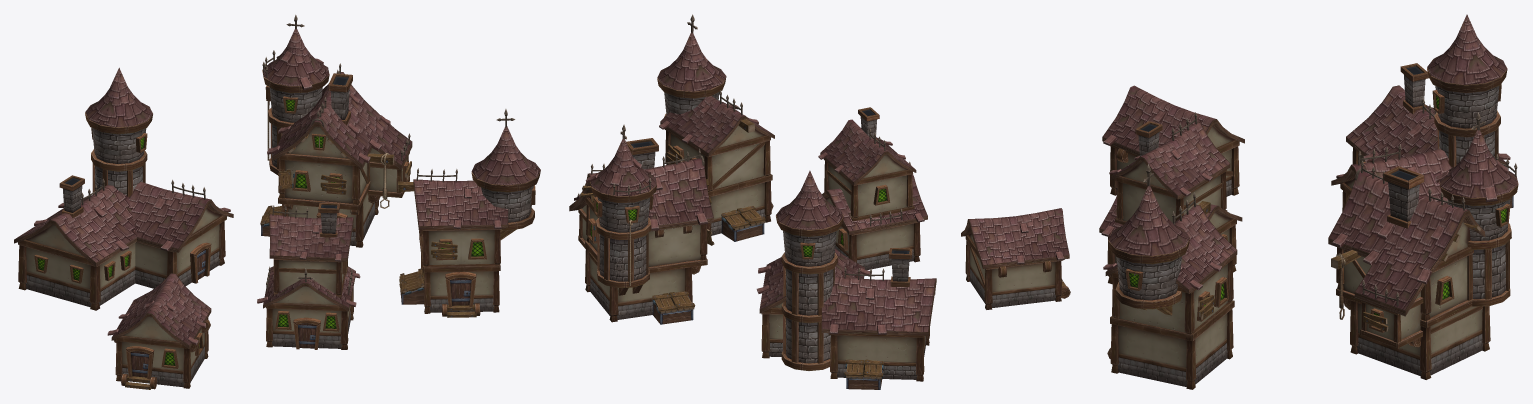
Rendered from medieval-houses.glb.
3 renders of one model, left to right at view 1: azimuth 30°, elevation 25°; view 2: azimuth 150°, elevation 25°; view 3: azimuth 270°, elevation 25°, orthographic. The views are drawn at different scales.
Visible parts, largest first — view 1: haunted_house_027; view 2: haunted_house_027; view 3: haunted_house_027.
Boxes of the visible parts, x1=… form: haunted_house_027: x1=14, y1=14, x2=540, y2=389; haunted_house_027: x1=569, y1=14, x2=1070, y2=389; haunted_house_027: x1=1099, y1=14, x2=1518, y2=389.
Size of the model in its own units: 36.9 by 16.81 by 27.21.
3 materials, 3 textured.
